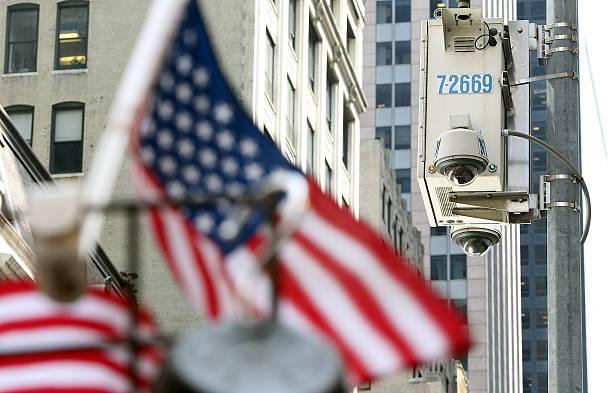camera: (427, 112, 494, 188), (450, 214, 503, 261)
